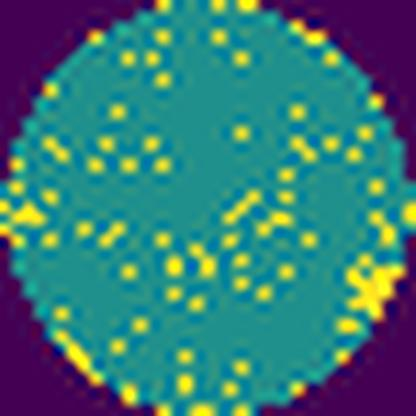Edge-Loc: (338, 251, 415, 324)
